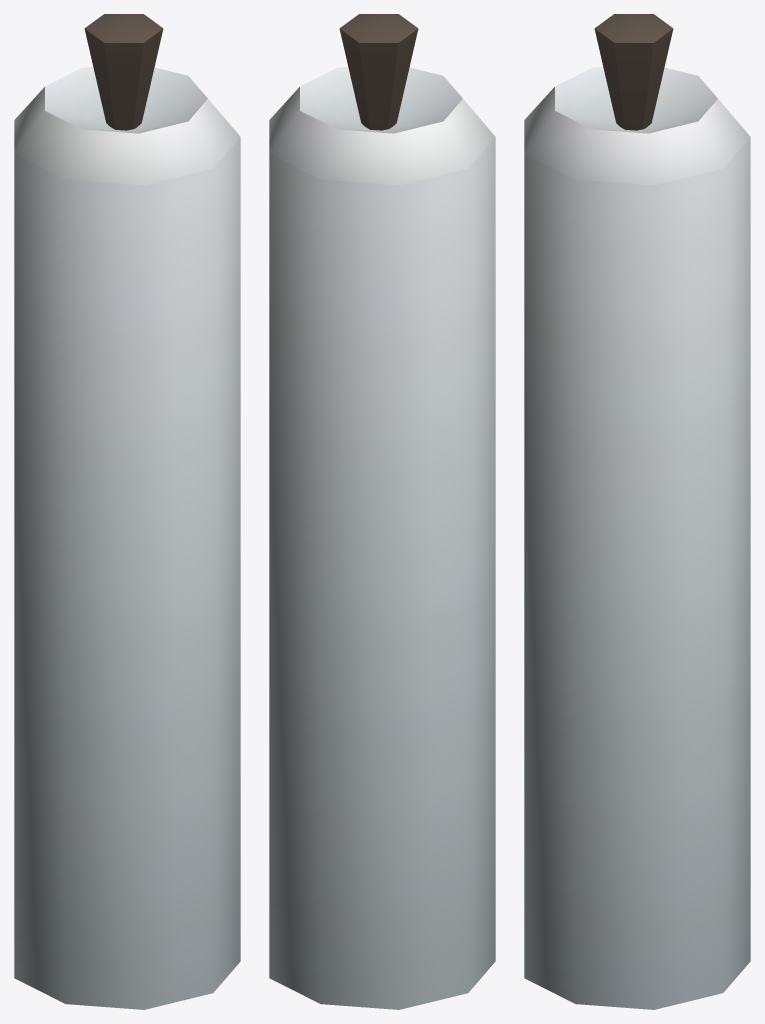
Rendered from kay-vela-fina.gltf.
3 renders of one model, left to right at view 1: azimuth 30°, elevation 25°; view 2: azimuth 150°, elevation 25°; view 3: azimuth 270°, elevation 25°, orthographic.
Parts seen in each view (by area): view 1: candle_thin; view 2: candle_thin; view 3: candle_thin.
Boxes of the visible parts, left/top/right/bottom form: candle_thin: left=14, top=14, right=240, bottom=1009; candle_thin: left=269, top=14, right=495, bottom=1009; candle_thin: left=524, top=14, right=750, bottom=1009.
Bounding box in the file's own units: 0.0869 × 0.3928 × 0.0856.
1 material, 1 textured.
